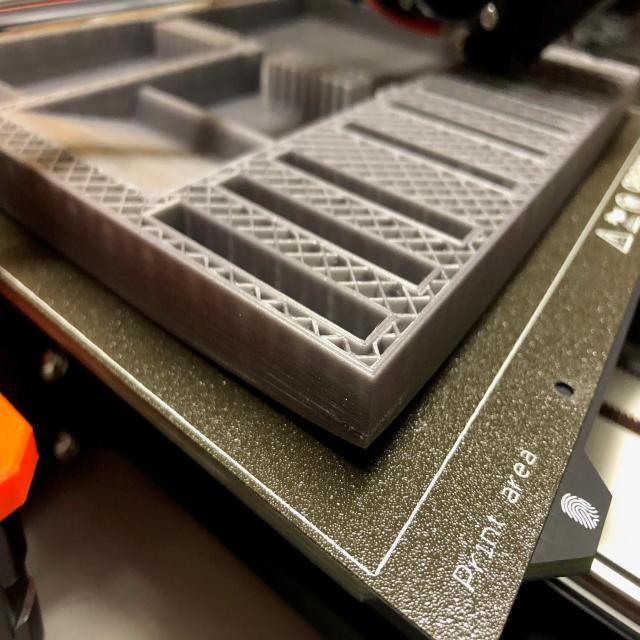Warping: (173, 326, 498, 523)
